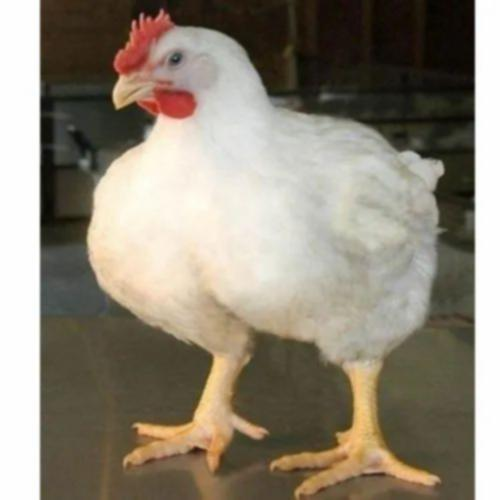Healthy: (88, 4, 451, 489)
